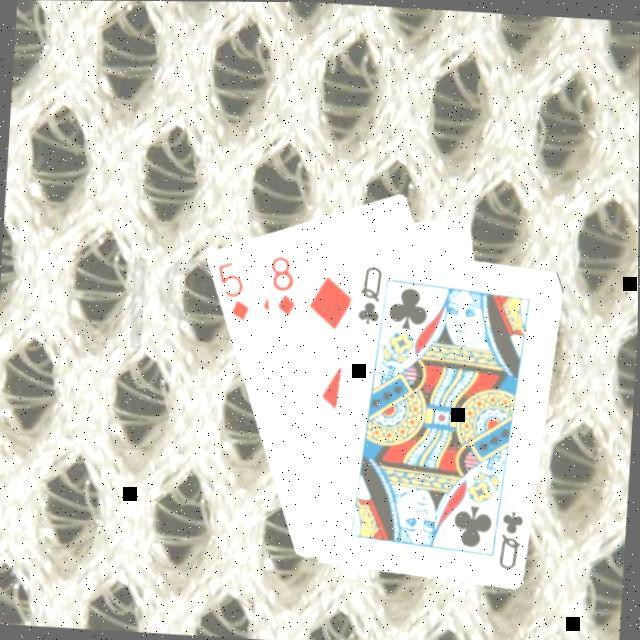5D: (212, 258, 255, 324)
8D: (266, 252, 302, 320)
QC: (355, 261, 386, 328), (497, 506, 528, 573)
